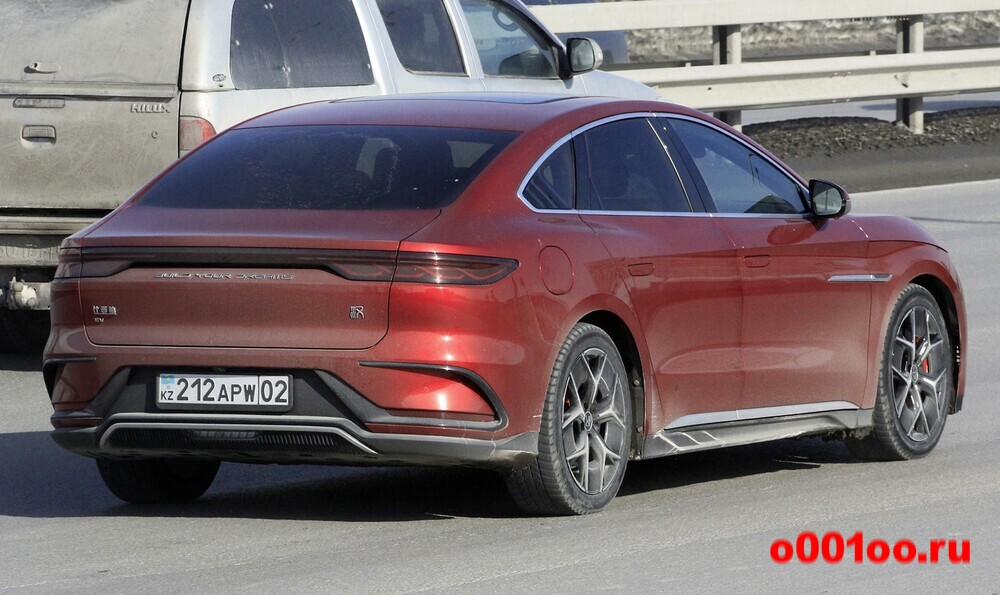license_plate: (160, 374, 295, 407)
